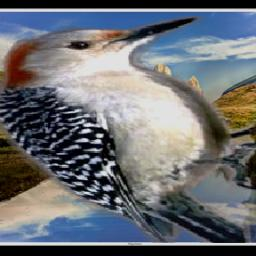Woodpecker: (0, 17, 256, 244)
